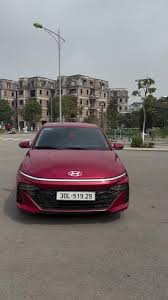Bien-so: (56, 191, 95, 202)
